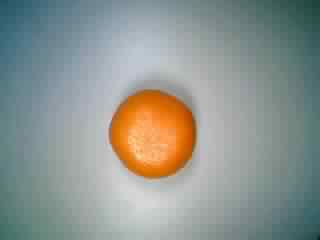orange: (104, 85, 199, 179)
